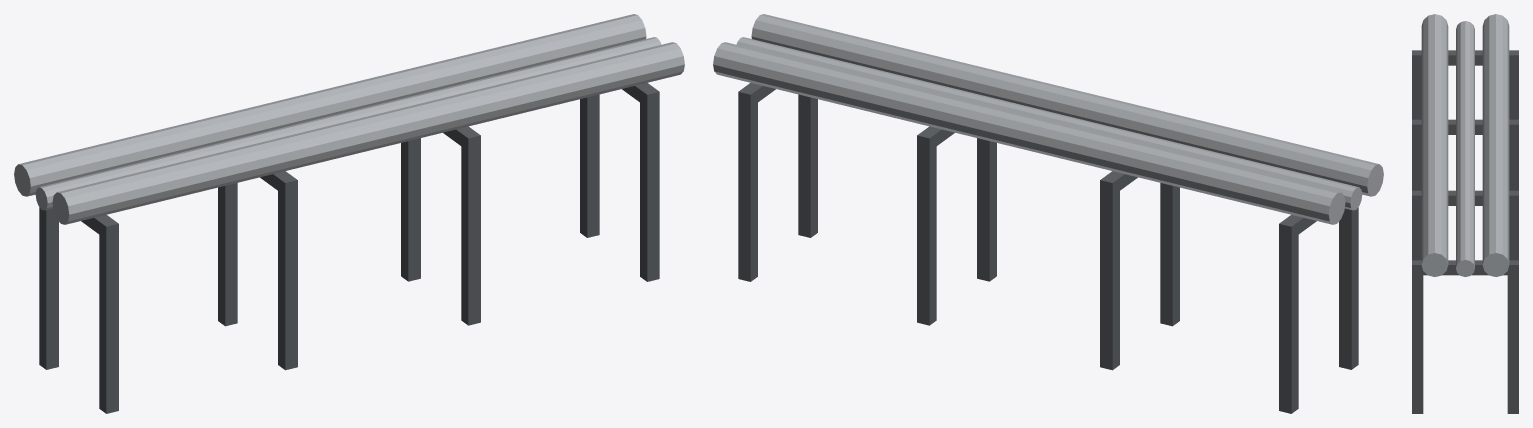
The model's file is pv_potrubi.glb.
The picture shows the model from 3 angles, left to right: view 1: azimuth 30°, elevation 25°; view 2: azimuth 150°, elevation 25°; view 3: azimuth 270°, elevation 25°; orthographic projection. The views are drawn at different scales.
Parts seen in each view (by area): view 1: dum; view 2: dum; view 3: dum.
Part boxes in pixels (x1,y1,x2,y2): dum: (14, 14, 684, 413); dum: (713, 14, 1383, 413); dum: (1412, 14, 1518, 413).
Bounding box in the file's own units: 14.76 × 4.99 × 2.79.
1 material, 1 textured.
